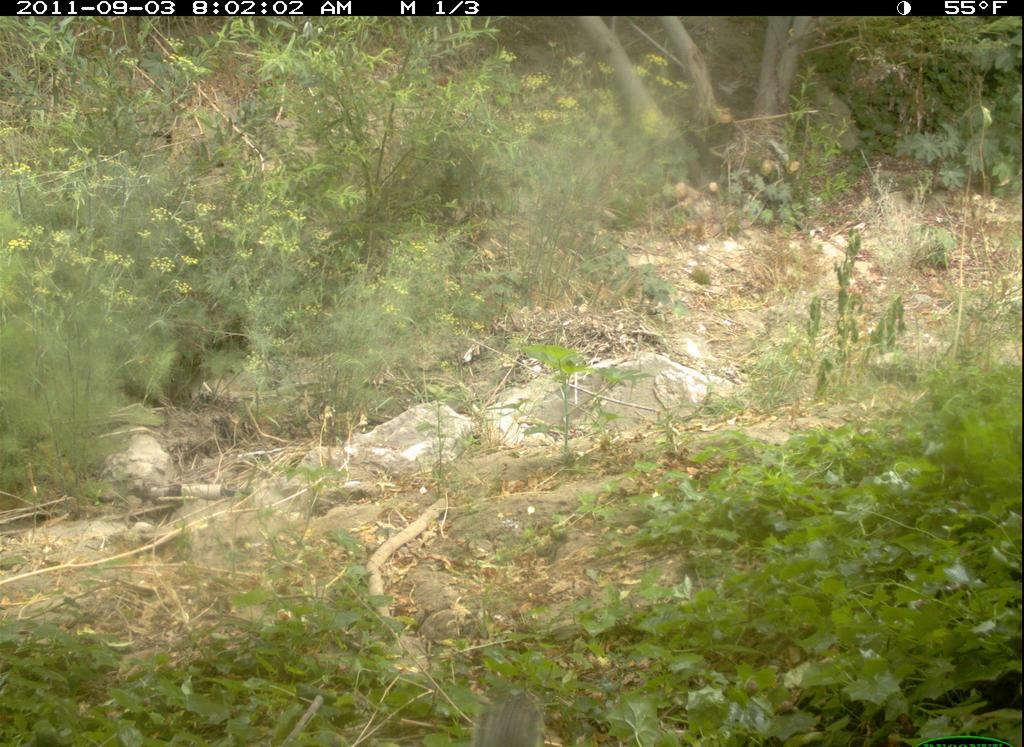squirrel: (449, 676, 551, 747)
